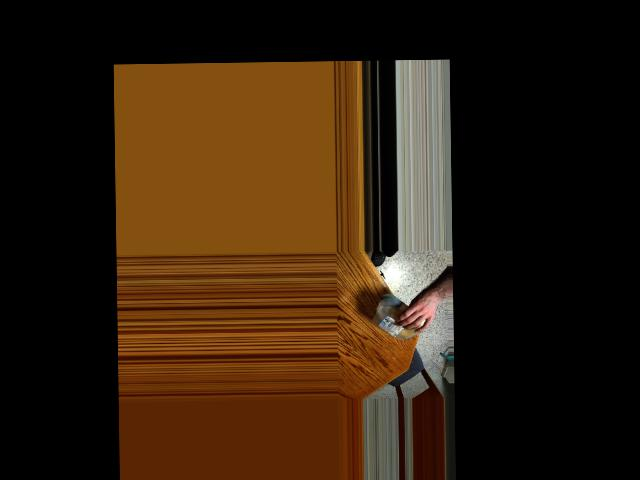cheese: (373, 296, 429, 342)
